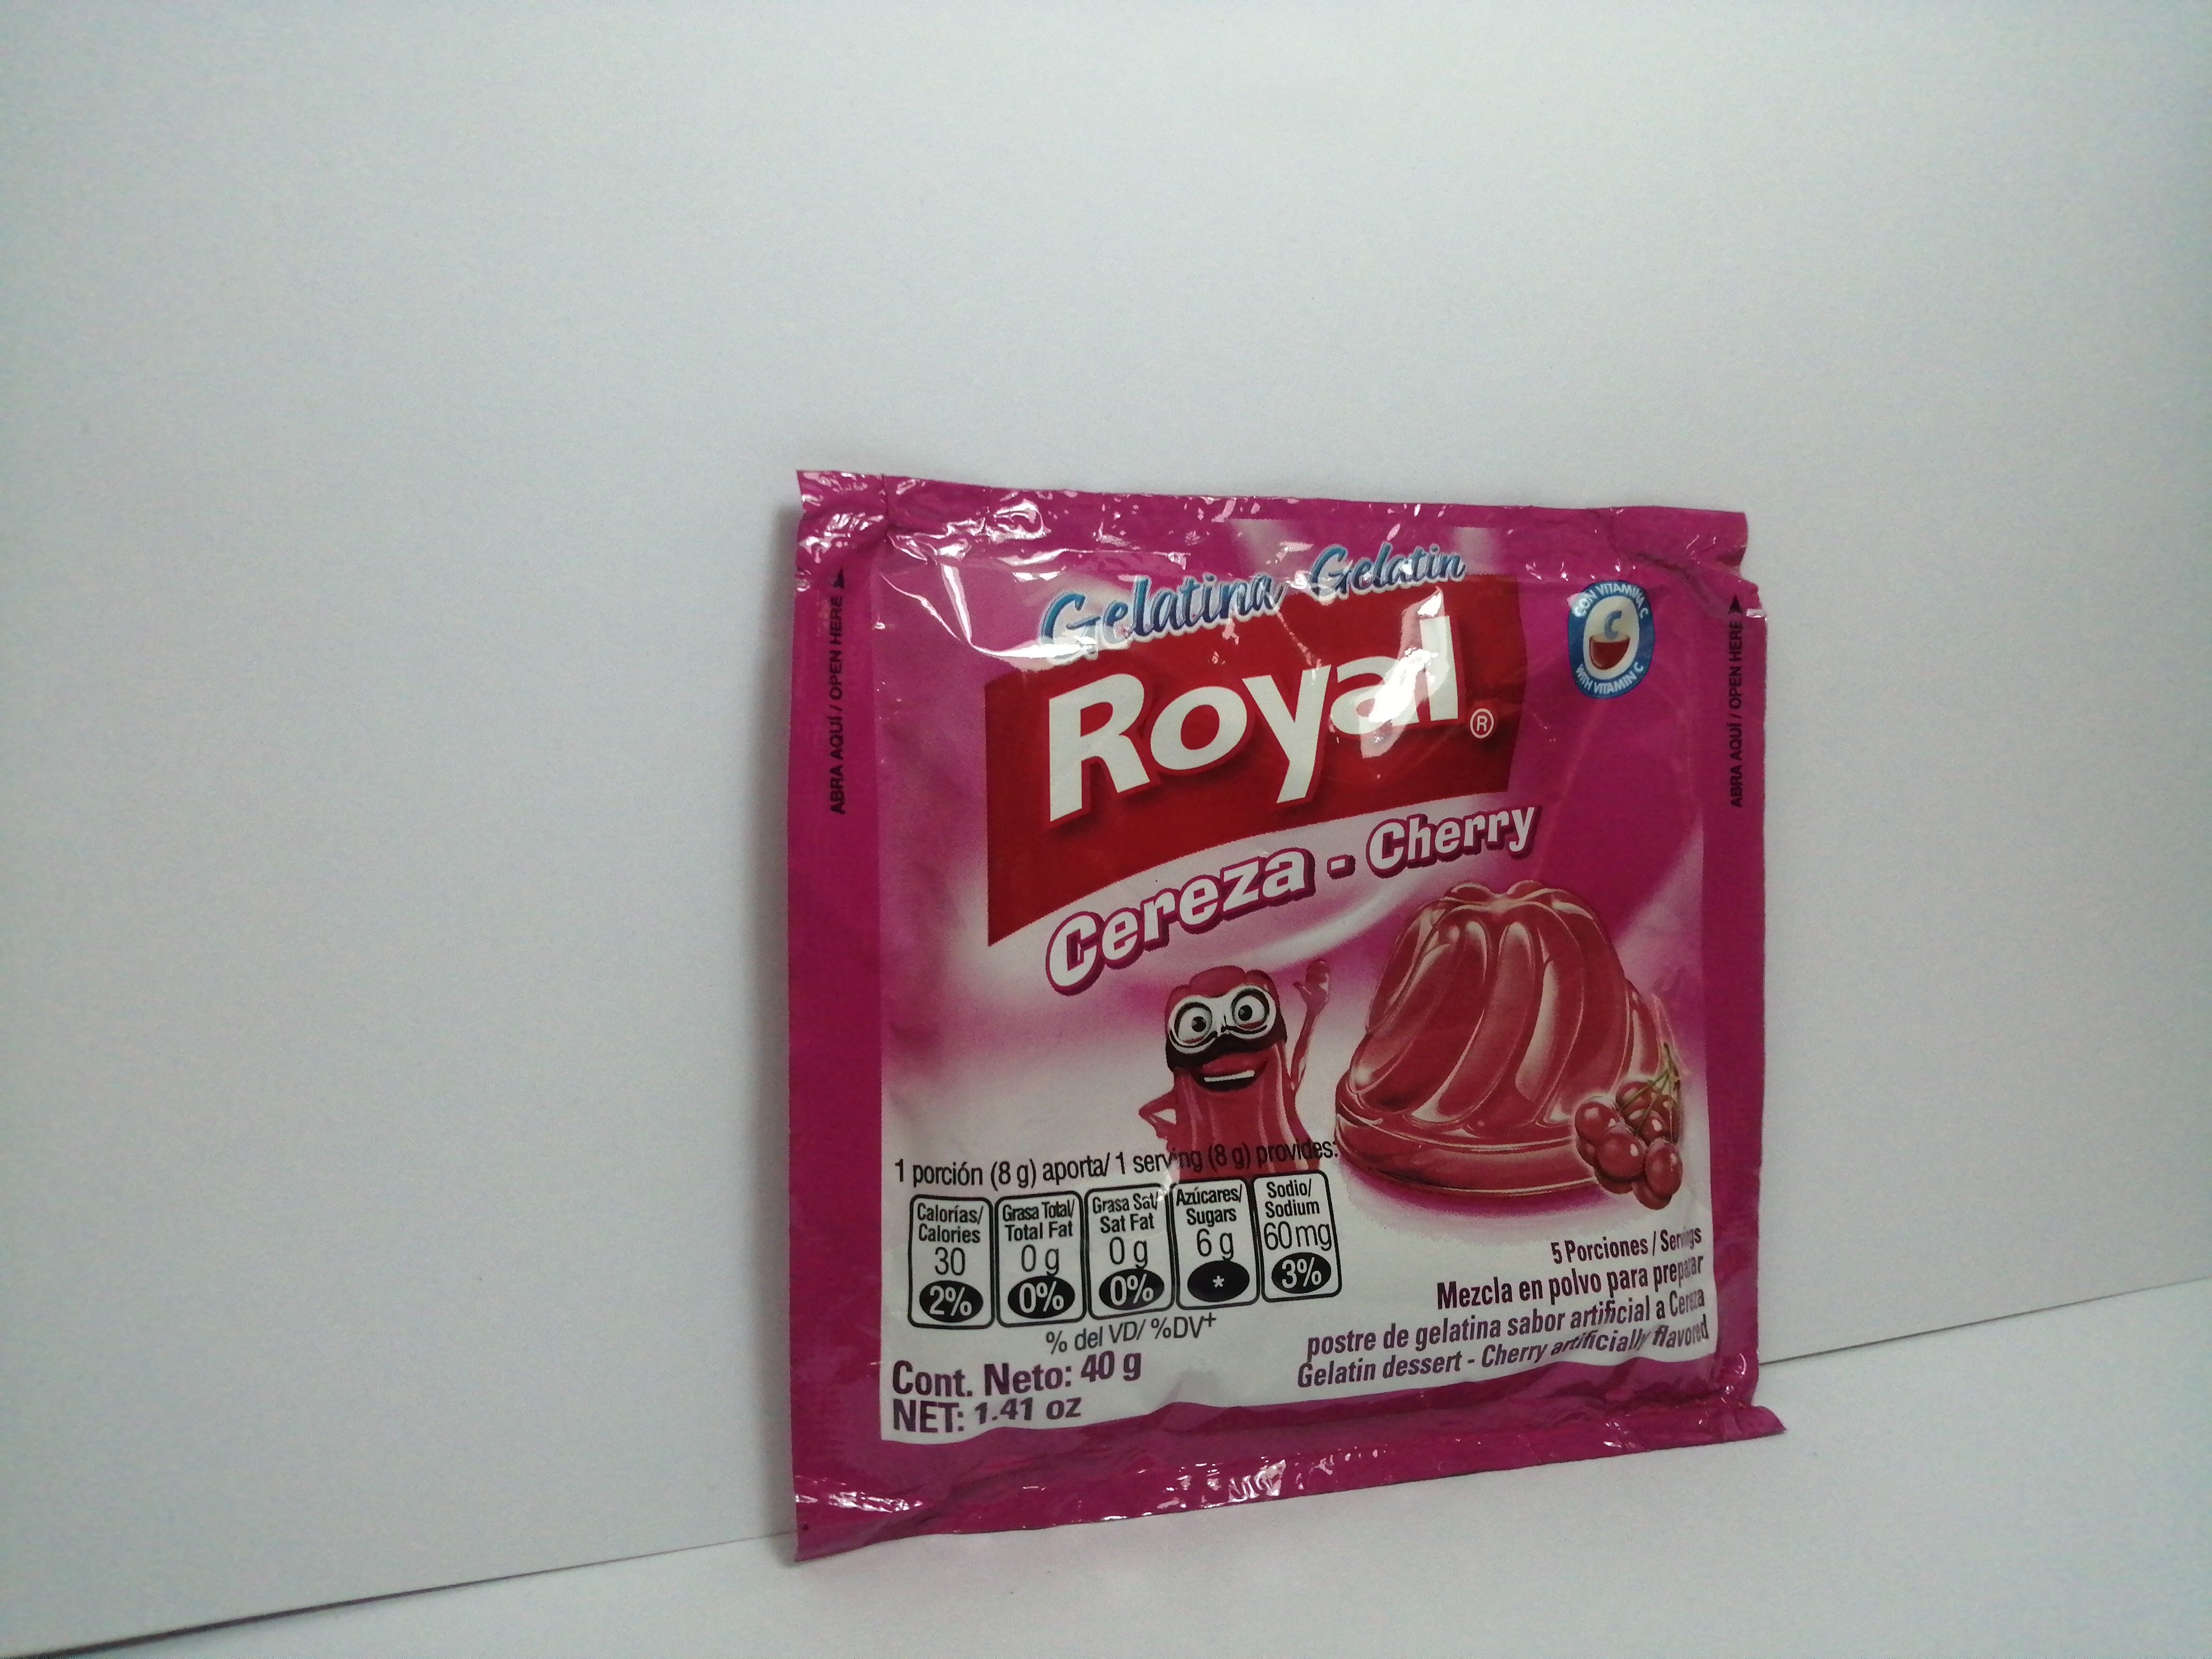gelatina: (792, 467, 1791, 1563)
